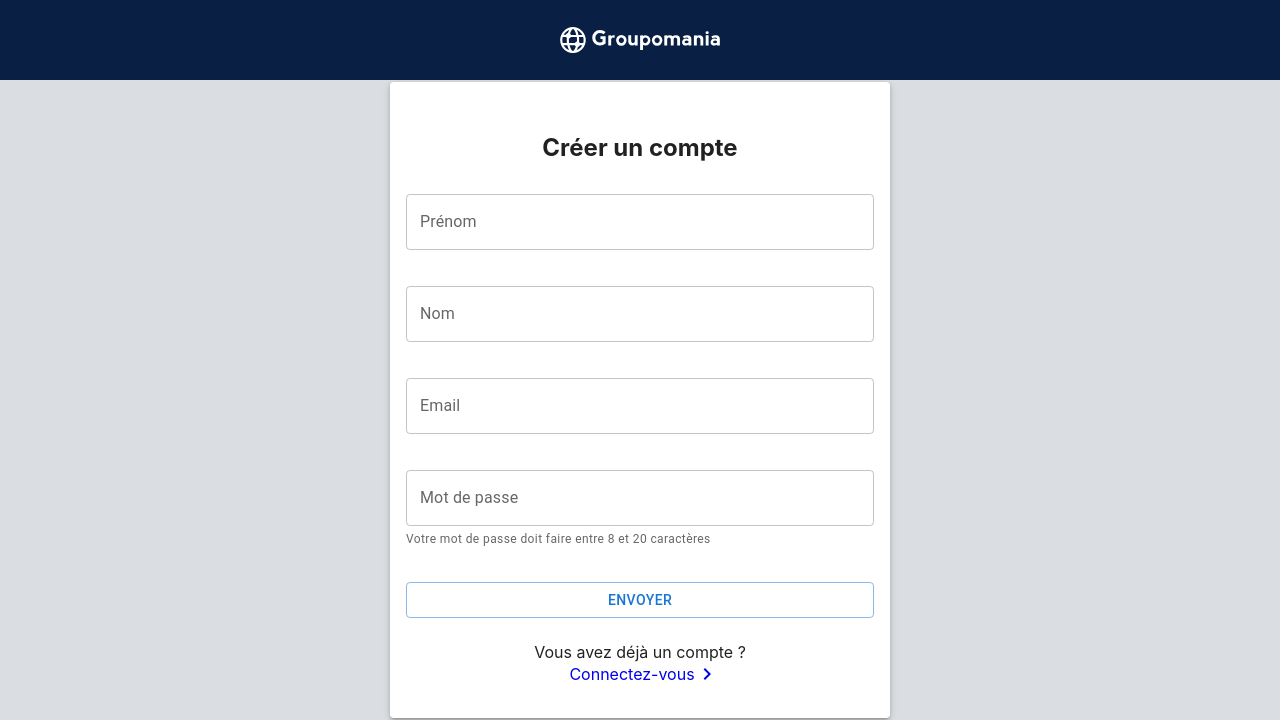
Test: Sign up and log in › Error messages › shows password-related error messages
Step 1. Type "John" into the field with test id "firstName" → (640, 222), box [406,194,874,250]
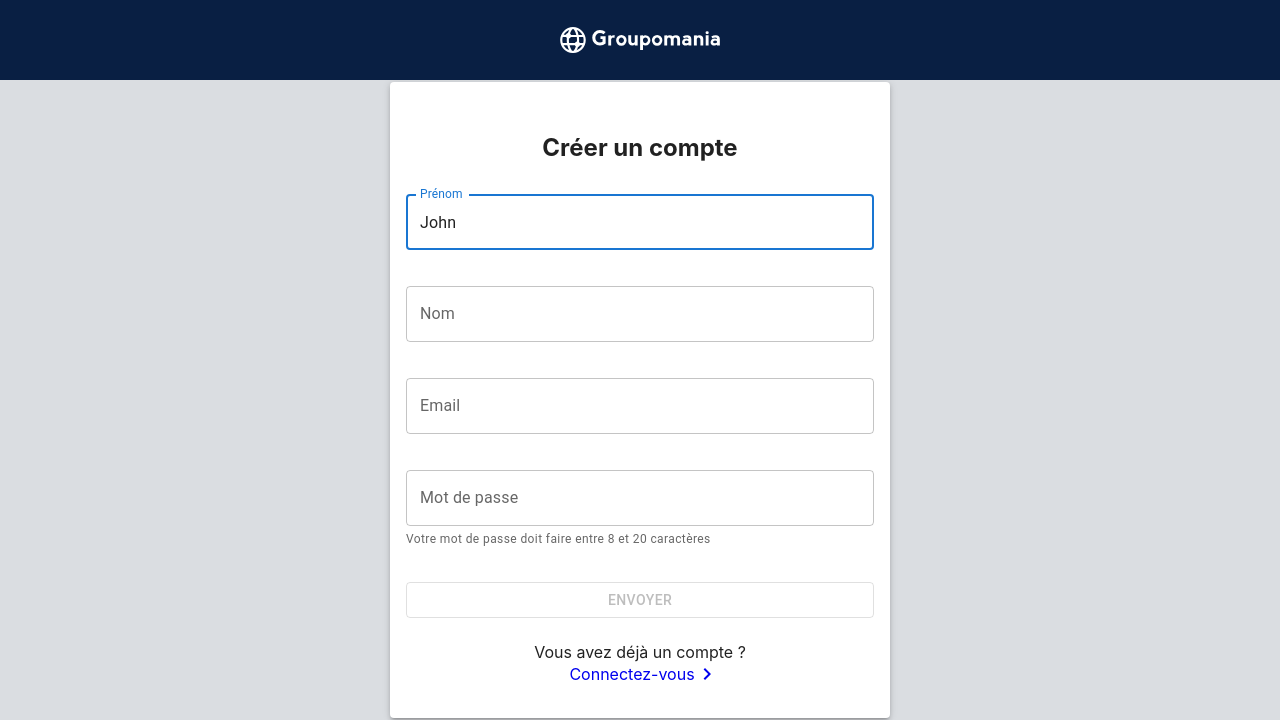
Step 2. Type "Doe" into the field with test id "lastName" → (640, 314), box [406,286,874,342]
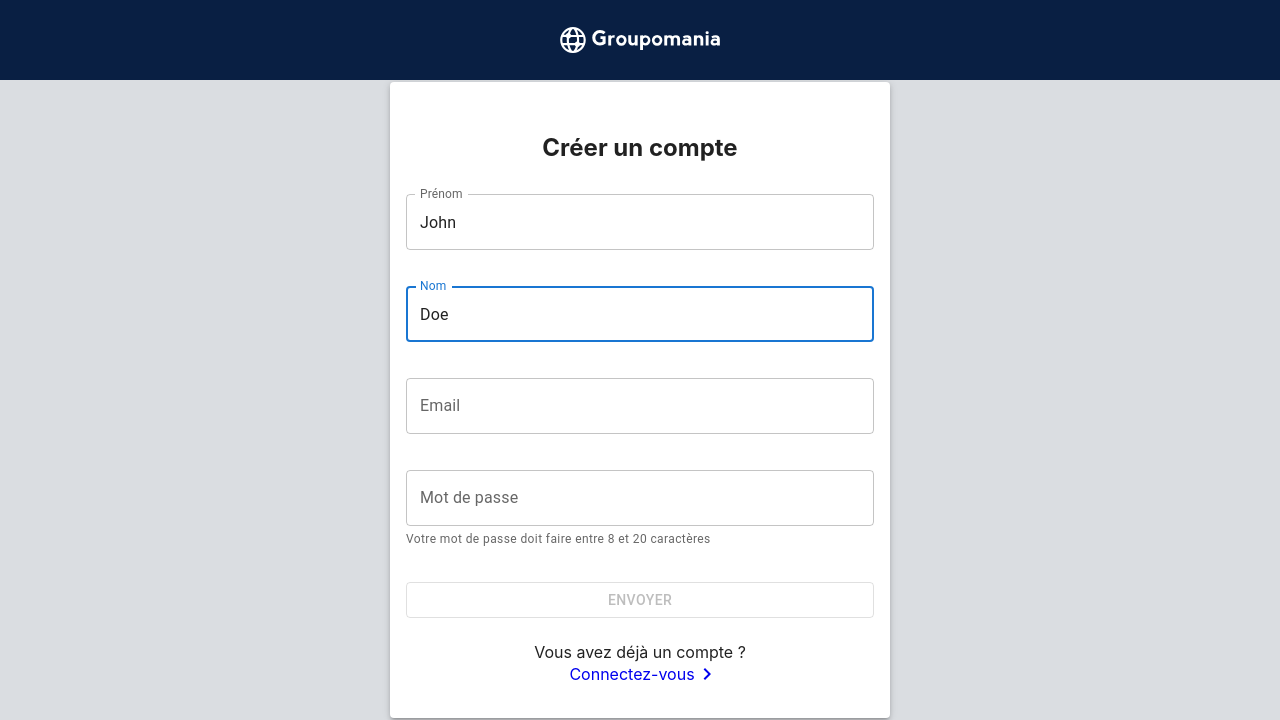
Step 3. Type "john.doe@gmail.com" into the field with test id "email" → (640, 406), box [406,378,874,434]
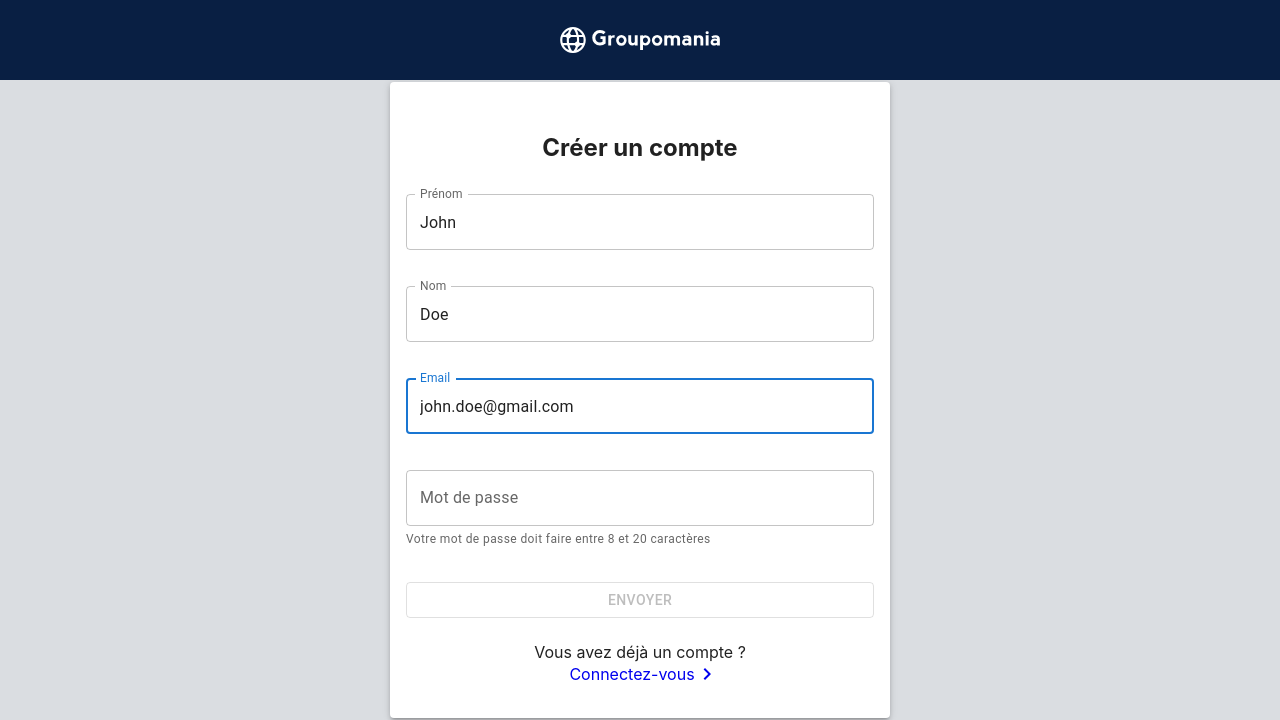
Step 4. Type "short" into the password field with test id "password" → (640, 498), box [406,470,874,526]
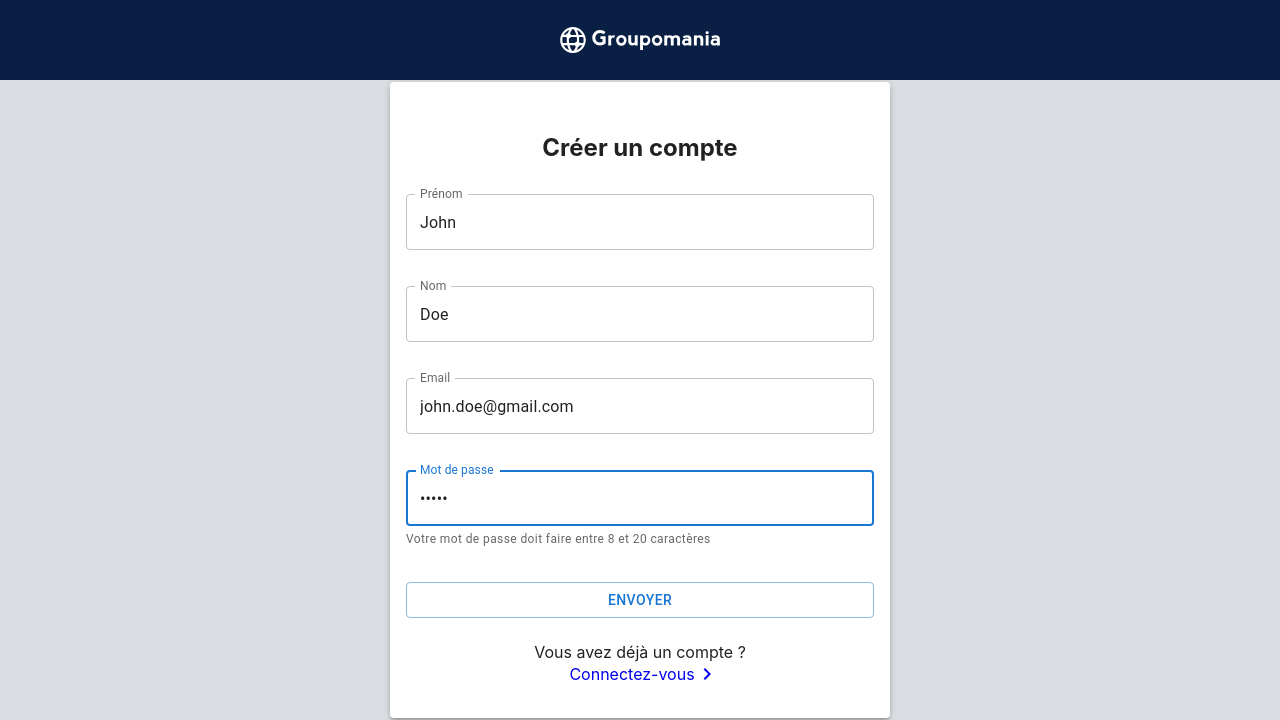
Step 5. Click the button with test id "submit" → (640, 601), box [406,582,874,619]
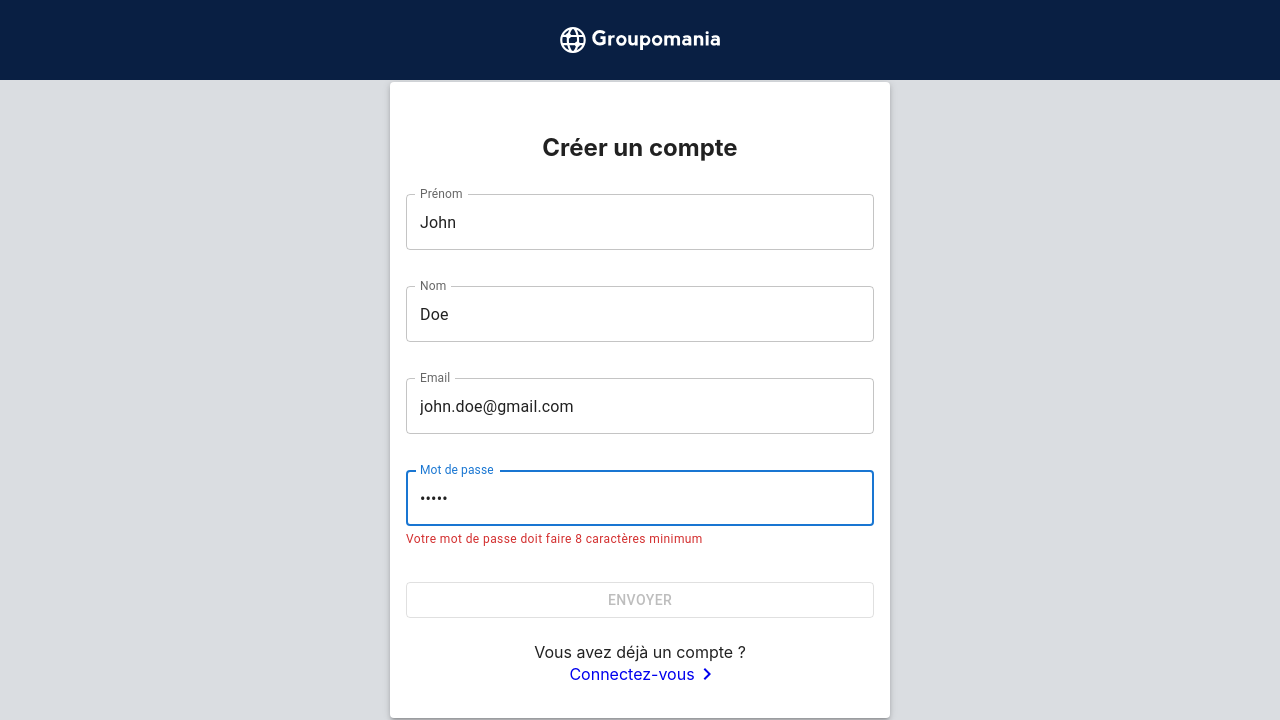
Expected: the text "8 caractères minimum" is shown, [406,532,703,546]
Step 6. Type "thisPasswordIsTooLong" into the password field with test id "password" → (640, 498), box [406,470,874,526]
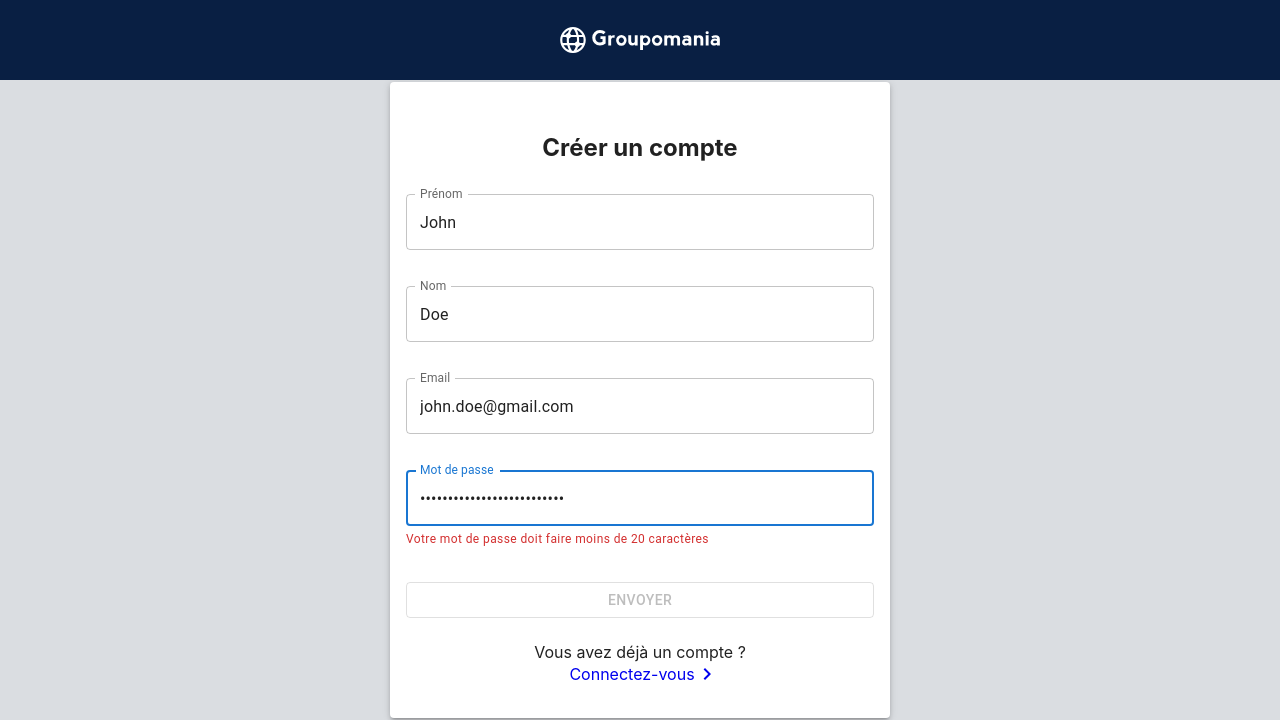
Expected: the text "doit faire moins de 20 caractères" is shown, [406,532,709,546]
